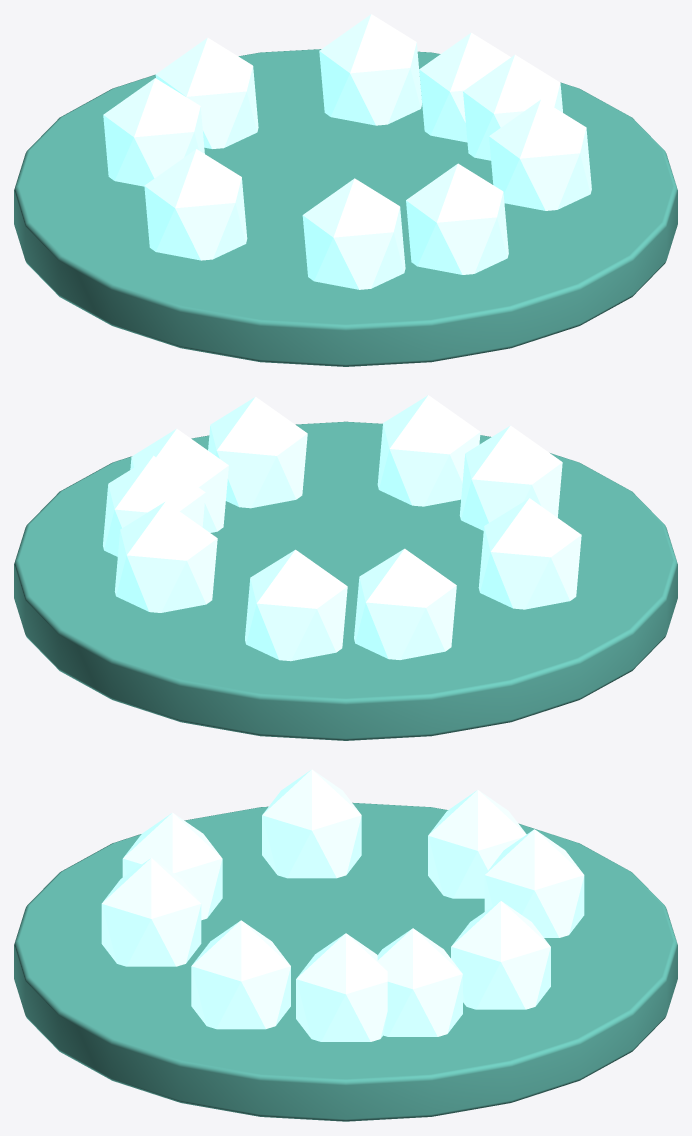
File: microbe.glb
The picture shows the model from 3 angles, top to bottom: view 1: azimuth 30°, elevation 25°; view 2: azimuth 150°, elevation 25°; view 3: azimuth 270°, elevation 25°; orthographic projection.
Visible parts, largest first — view 1: Microbial pool, Colony vesicle; view 2: Microbial pool, Colony vesicle; view 3: Microbial pool, Colony vesicle.
Part boxes in pixels (x1,y1,x2,y2): Microbial pool: [14, 49, 677, 366]; Colony vesicle: [103, 14, 591, 289]; Microbial pool: [14, 421, 677, 740]; Colony vesicle: [103, 395, 581, 661]; Microbial pool: [14, 802, 677, 1121]; Colony vesicle: [101, 769, 584, 1041].
Bounding box in the file's own units: 3.4 × 0.8 × 3.4.
